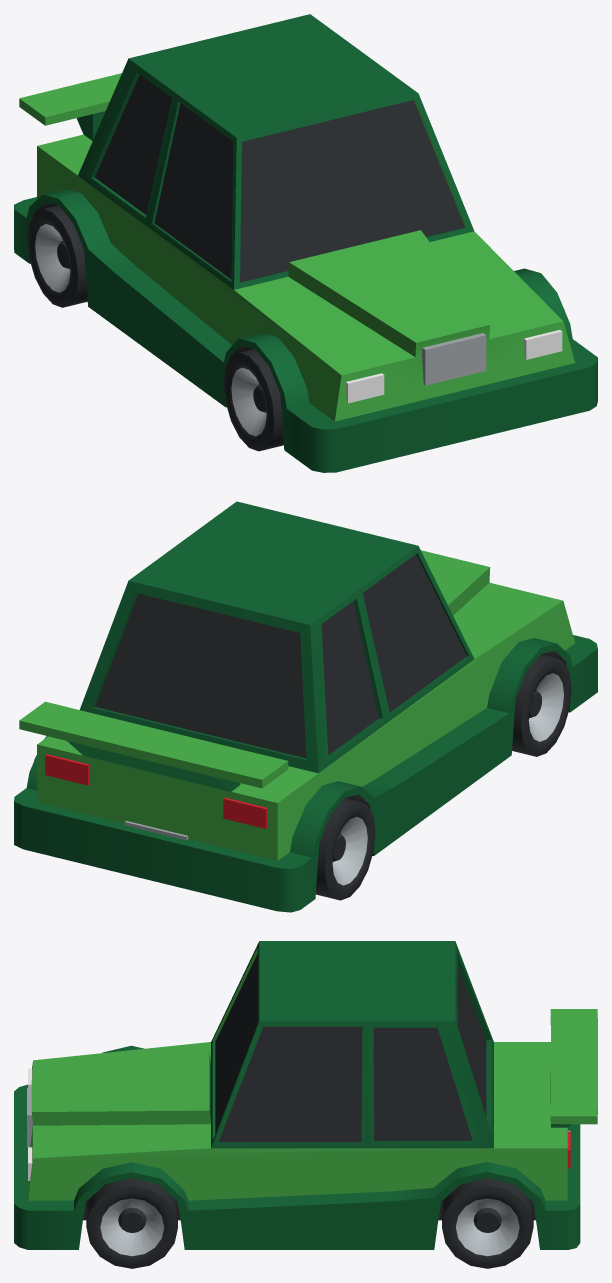
Rendered from Car_4.fbx.
The picture shows the model from 3 angles, top to bottom: view 1: azimuth 30°, elevation 25°; view 2: azimuth 150°, elevation 25°; view 3: azimuth 270°, elevation 25°; orthographic projection. The views are drawn at different scales.
Parts seen in each view (by area): view 1: Car4, Car7Wheel4.001, Car7Wheel2.001; view 2: Car4, Car7Wheel2.001, Car7Wheel4.001; view 3: Car4, Car7Wheel1.001, Car7Wheel3.001.
Part boxes in pixels (x1=…): Car4: x1=14, y1=14, x2=597, y2=472; Car7Wheel4.001: x1=27, y1=205, x2=87, y2=307; Car7Wheel2.001: x1=223, y1=349, x2=283, y2=451; Car4: x1=14, y1=501, x2=597, y2=912; Car7Wheel2.001: x1=512, y1=654, x2=571, y2=756; Car7Wheel4.001: x1=316, y1=798, x2=375, y2=900; Car4: x1=14, y1=941, x2=597, y2=1249; Car7Wheel1.001: x1=86, y1=1178, x2=177, y2=1268; Car7Wheel3.001: x1=442, y1=1178, x2=533, y2=1268.
Size of the model in its own units: 299 by 232 by 555.
Materials: 1 (1 with a texture image).
